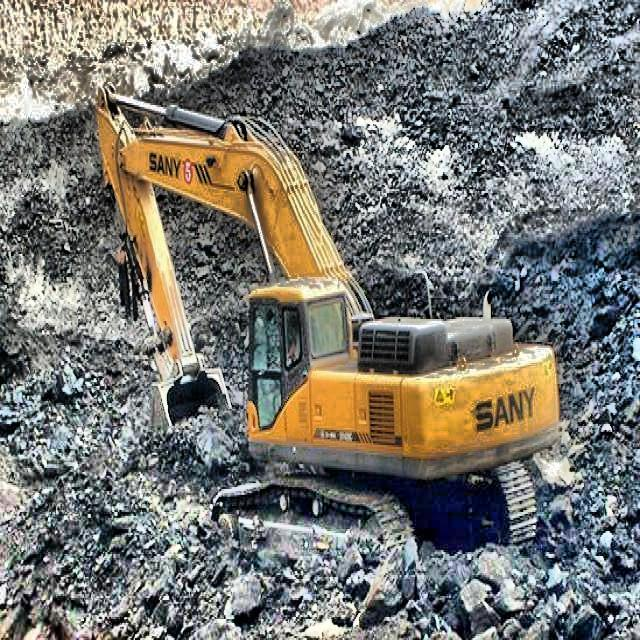excavator: (93, 84, 561, 561)
